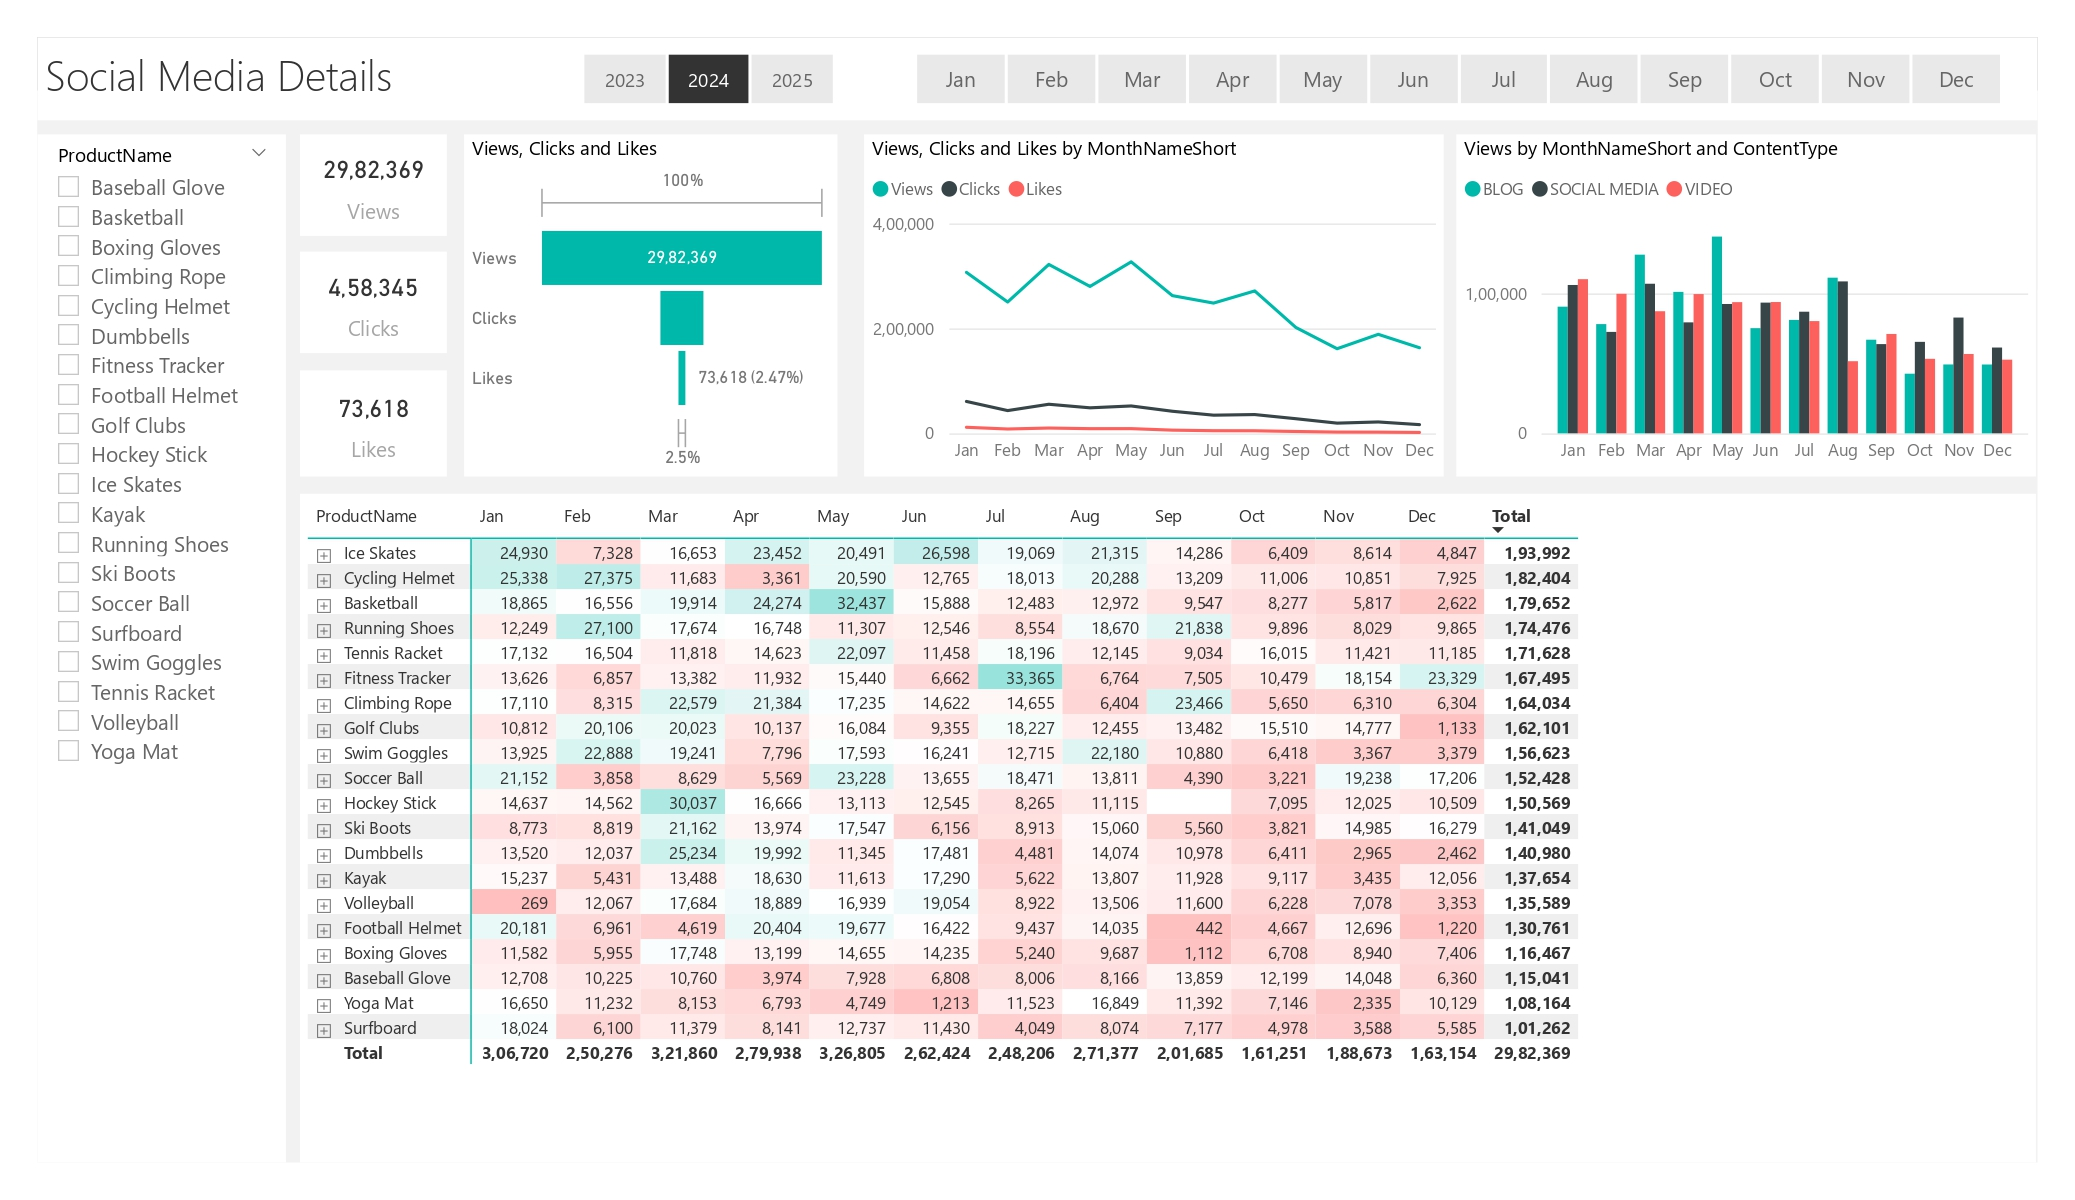

The dashboard page shown, as its layout file describes it:
{"tool":"powerbi","page":{"name":"Social Media Details","canvas":[1280,720],"ordinal":2},"visuals":[{"type":"textbox","box":[0,0,1280,52.6],"z":0},{"type":"slicer","fields":{"Values":["dim_products.ProductName"]},"box":[0,61.6,159.5,658.5],"z":1000},{"type":"lineChart","fields":{"Y":["_Calculations.Views","_Calculations.Clicks","_Calculations.Likes"],"Category":["Calendar.MonthNameShort"]},"box":[528.5,61.9,371.6,218.8],"z":2000},{"type":"funnel","fields":{"Y":["_Calculations.Views","_Calculations.Clicks","_Calculations.Likes"]},"box":[272.5,61.9,239.5,218.8],"z":3000},{"type":"card","fields":{"Values":["_Calculations.Views"]},"box":[168.3,61.9,93.9,65],"z":4000},{"type":"card","fields":{"Values":["_Calculations.Clicks"]},"box":[168.3,137.3,93.9,65],"z":5000},{"type":"card","fields":{"Values":["_Calculations.Likes"]},"box":[168.3,212.6,93.9,68.1],"z":6000},{"type":"slicer","fields":{"Values":["Calendar.MonthNameShort"]},"box":[536.8,4.1,743.2,44.4],"z":7000},{"type":"slicer","fields":{"Values":["Calendar.Year"]},"box":[324.1,4.1,208.5,44.4],"z":8000},{"type":"pivotTable","fields":{"Rows":["dim_products.ProductName","fact_engagement.ContentType"],"Values":["_Calculations.Views"],"Columns":["Calendar.MonthNameShort"]},"box":[168.3,292.1,1110.7,428.4],"z":9000},{"type":"clusteredColumnChart","fields":{"Category":["Calendar.MonthNameShort"],"Series":["fact_engagement.ContentType"],"Y":["_Calculations.Views"]},"box":[908.4,61.9,370.6,218.8],"z":10000}]}

Visuals, with their boxes on the page's 1280x720 design canvas (x1, y1, x2, y2). These are canvas units, not pixel positions in the 2075x1200 screenshot, which may show the page scaled, cropped or inside an application window:
textbox: BBox(0, 0, 1280, 53)
slicer - dim_products.ProductName: BBox(0, 62, 160, 720)
lineChart - _Calculations.Views x _Calculations.Clicks: BBox(528, 62, 900, 281)
funnel - _Calculations.Views x _Calculations.Clicks: BBox(272, 62, 512, 281)
card - _Calculations.Views: BBox(168, 62, 262, 127)
card - _Calculations.Clicks: BBox(168, 137, 262, 202)
card - _Calculations.Likes: BBox(168, 213, 262, 281)
slicer - Calendar.MonthNameShort: BBox(537, 4, 1280, 48)
slicer - Calendar.Year: BBox(324, 4, 533, 48)
pivotTable - dim_products.ProductName x fact_engagement.ContentType: BBox(168, 292, 1279, 720)
clusteredColumnChart - Calendar.MonthNameShort x fact_engagement.ContentType: BBox(908, 62, 1279, 281)
